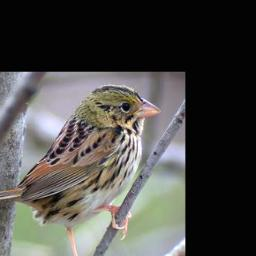Sparrow: (0, 83, 162, 256)
